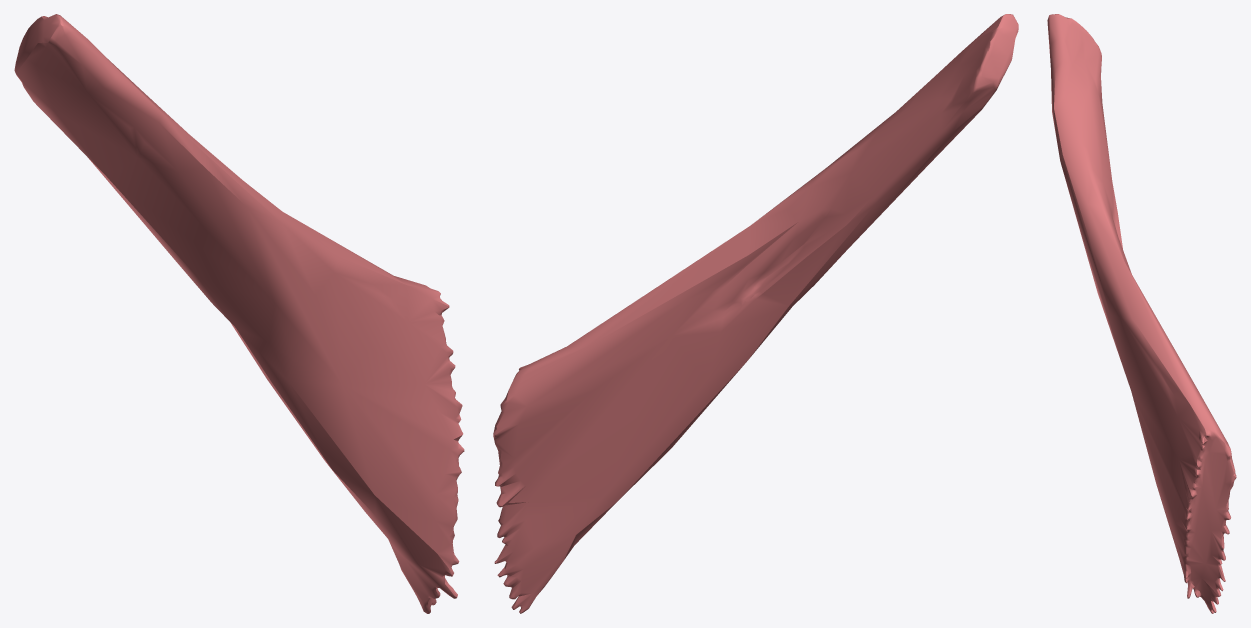
3 renders of one model, left to right at view 1: azimuth 30°, elevation 25°; view 2: azimuth 150°, elevation 25°; view 3: azimuth 270°, elevation 25°, orthographic. The views are drawn at different scales.
Parts seen in each view (by area): view 1: FJ1404M; view 2: FJ1404M; view 3: FJ1404M.
Part boxes in pixels (x1,y1,x2,y2): FJ1404M: (14,14,464,613); FJ1404M: (493,14,1018,613); FJ1404M: (1047,14,1236,613).
Bounding box in the file's own units: 0.085 × 0.1206 × 0.0449.
